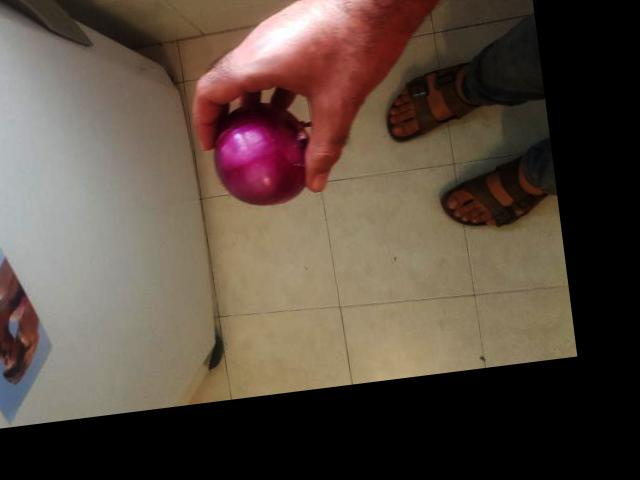onion: (209, 88, 320, 213)
